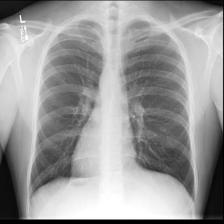normal: (25, 14, 200, 213)
